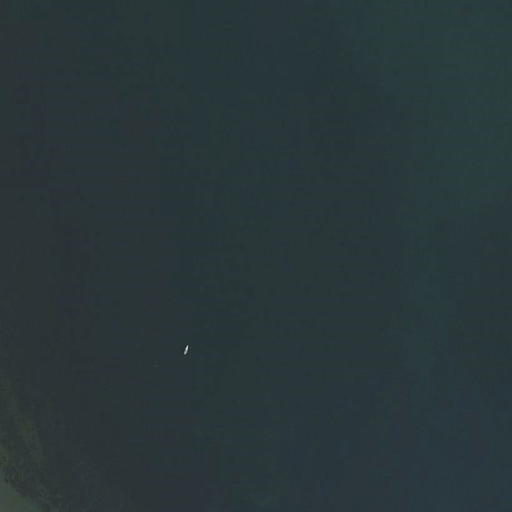ship: (182, 344, 190, 355)
